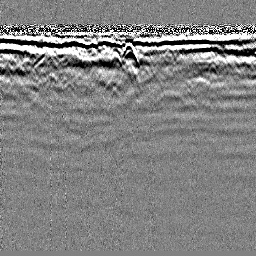cavity: (121, 41, 136, 58)
